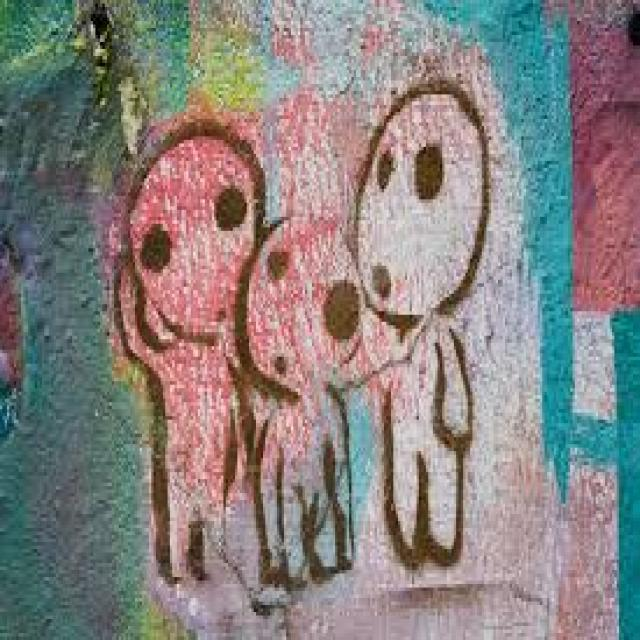-: (111, 79, 492, 585)
